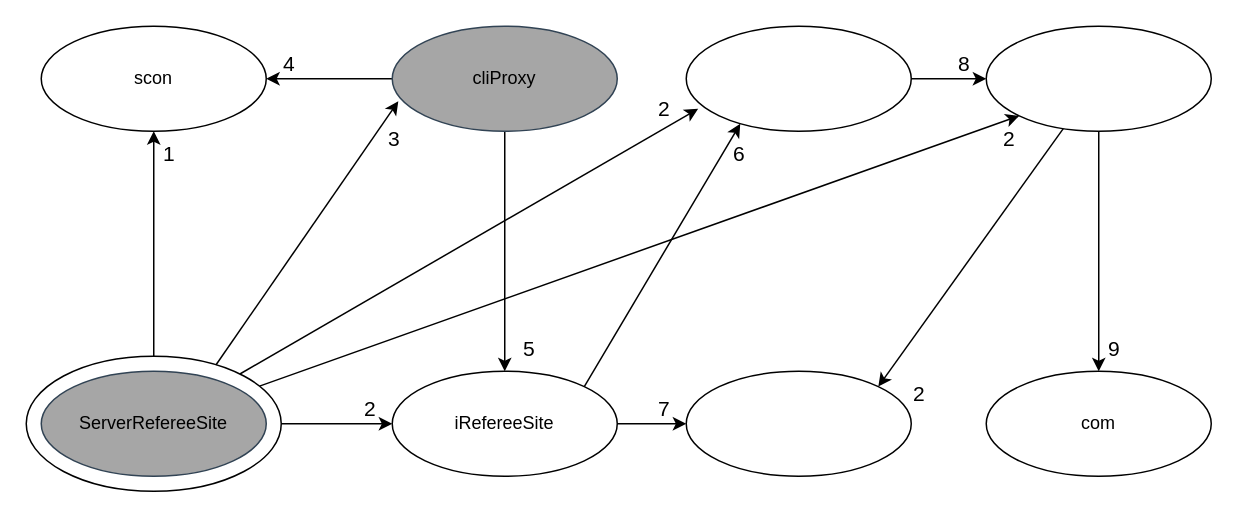
Some shapes in this 1238 by 518 pixel diagram are drawn without their labels. The shapes that lost their labels are listed below. From the top down, each one's box as (x1, y1, x2, y2) in pixels, then its label:
(685, 25, 911, 131): mRefereeSite
(985, 25, 1211, 131): reposStub
(685, 370, 911, 476): inMessage outMessage
